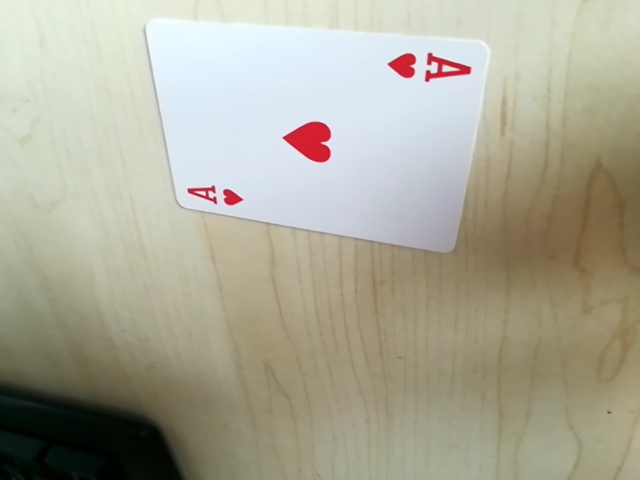hx a: (385, 45, 474, 92), (180, 179, 249, 212)
